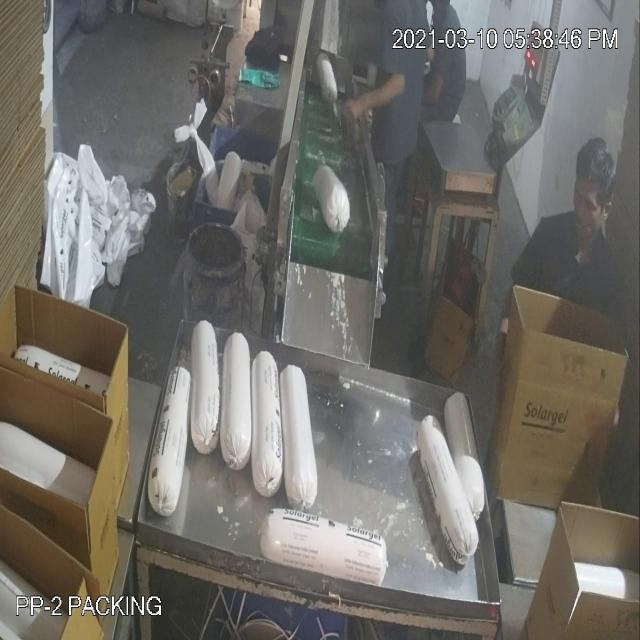No_Gloves: (26, 68, 506, 353)
